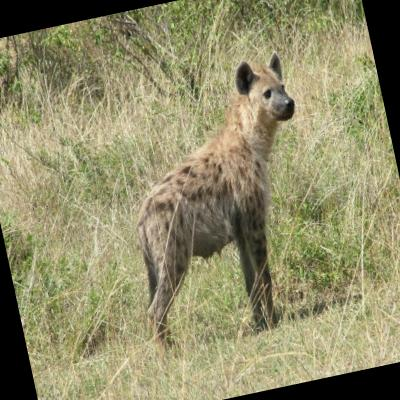hyenas: (75, 22, 374, 377)
